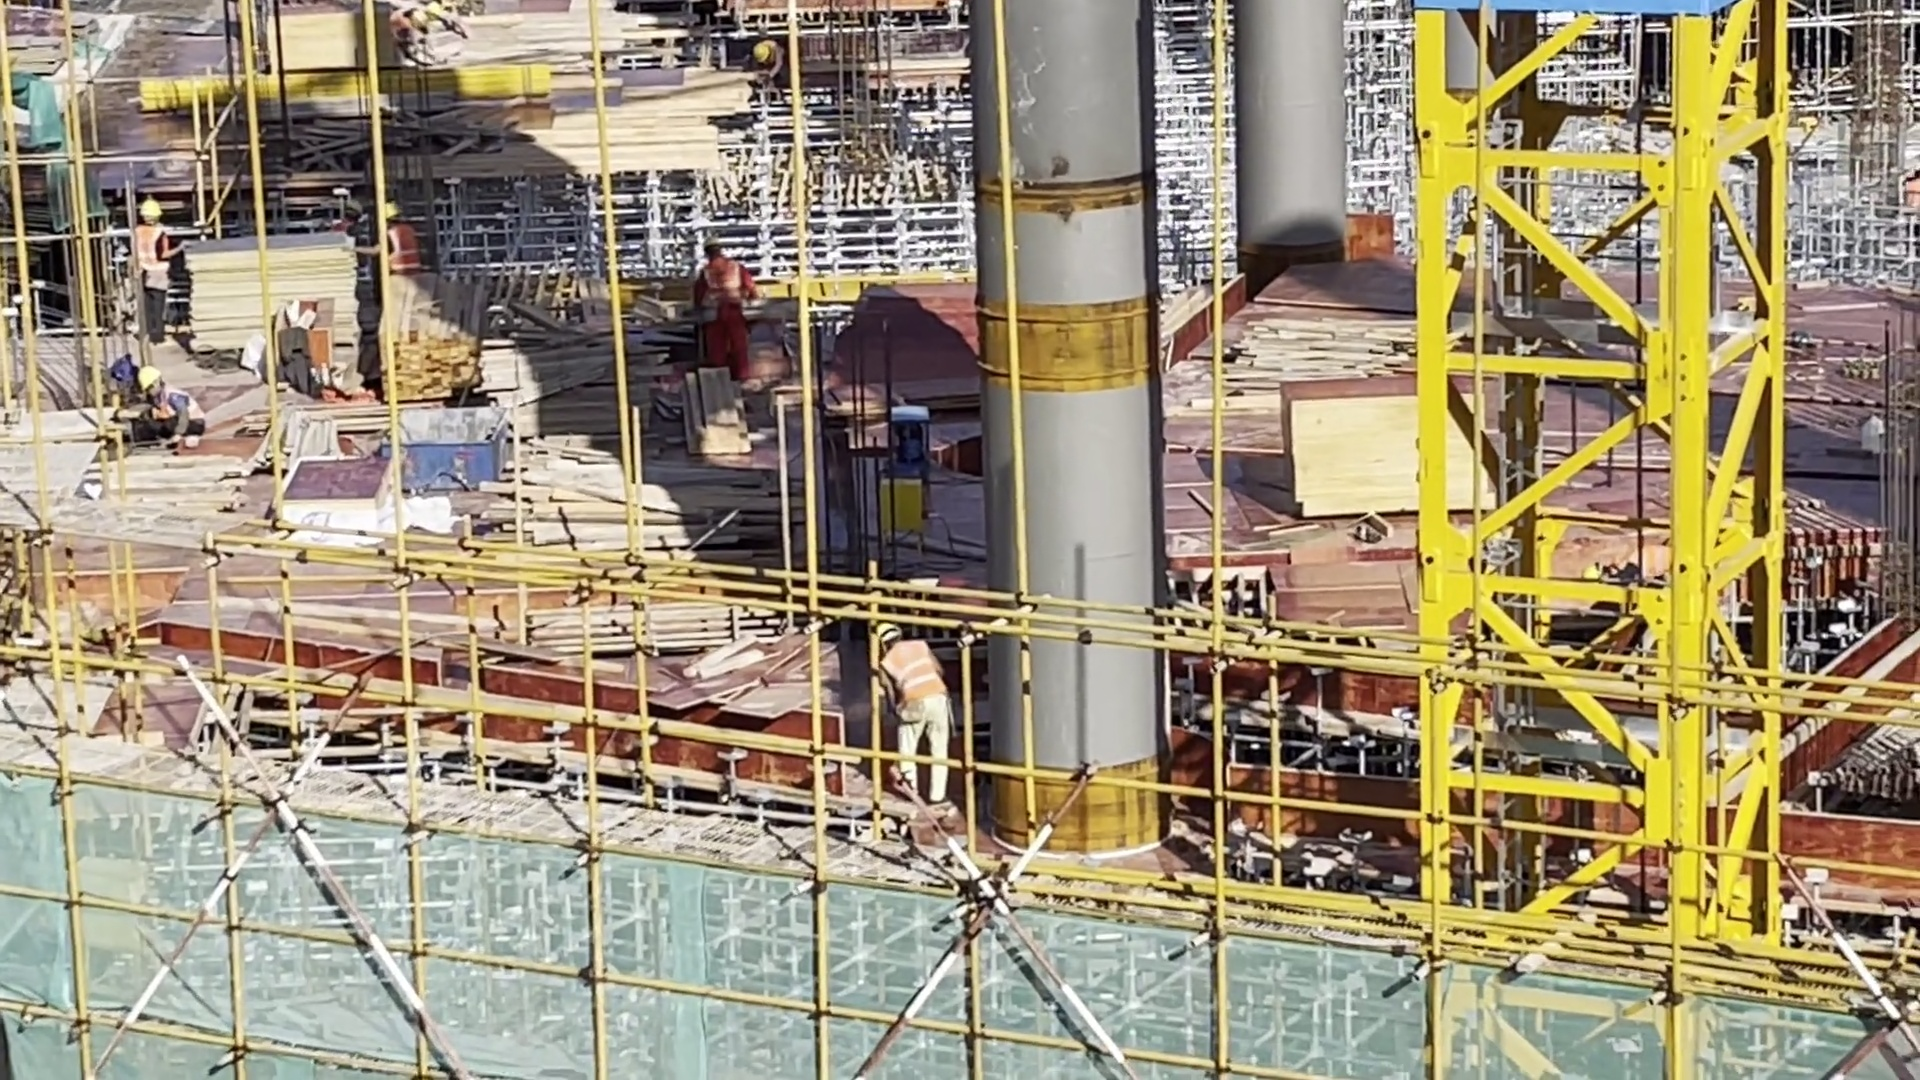helmet: (879, 616, 903, 651), (371, 202, 396, 229), (696, 237, 726, 257), (133, 369, 159, 392), (138, 201, 166, 221), (753, 41, 774, 69), (1587, 565, 1603, 584)
person: (861, 616, 959, 811), (1589, 545, 1693, 675), (688, 225, 763, 388), (124, 197, 174, 346), (376, 191, 448, 281), (137, 361, 204, 449), (746, 35, 798, 103), (1894, 155, 1920, 236), (334, 192, 368, 239)
vest: (874, 651, 951, 719), (1623, 549, 1686, 601), (699, 252, 743, 316), (158, 387, 204, 429), (128, 234, 166, 282), (389, 224, 420, 273), (1904, 176, 1920, 209), (765, 37, 782, 67), (335, 219, 359, 231)
